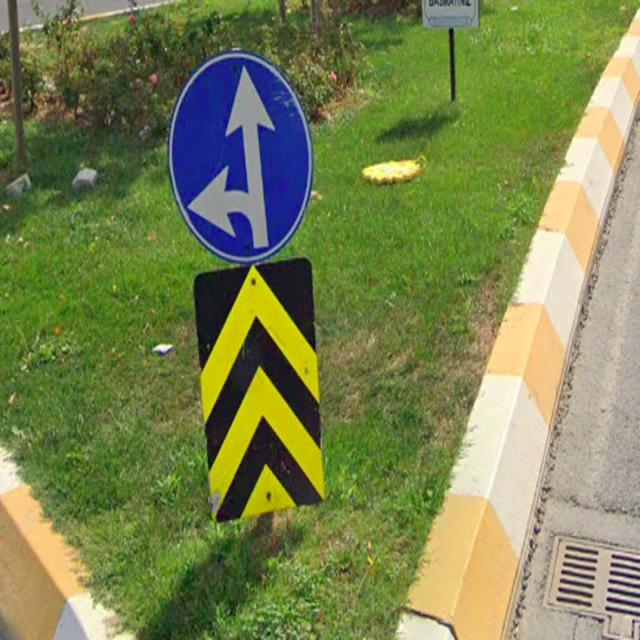ilerisol: (167, 49, 312, 262)
